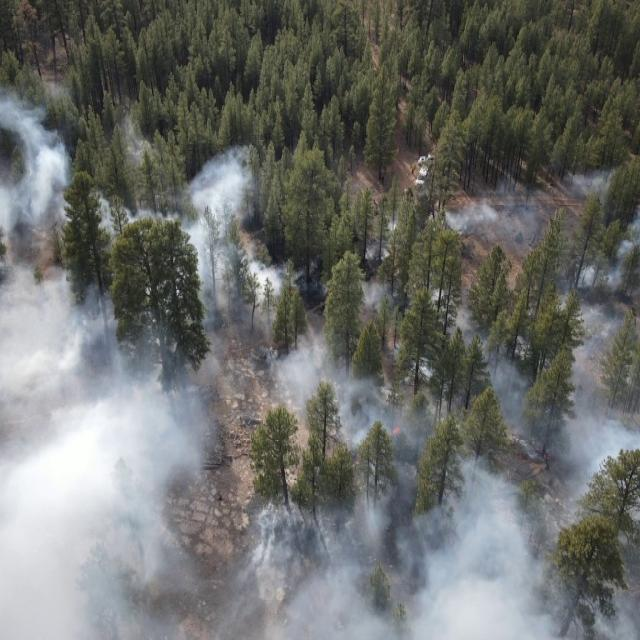fire: (382, 416, 412, 448)
smoke: (225, 504, 556, 640), (0, 257, 111, 640), (108, 324, 226, 640), (559, 165, 640, 537), (97, 115, 260, 243), (456, 305, 560, 503), (334, 374, 468, 504), (0, 88, 70, 260), (196, 242, 304, 316), (263, 318, 340, 418), (441, 176, 545, 248), (554, 570, 640, 640), (354, 273, 451, 329)
